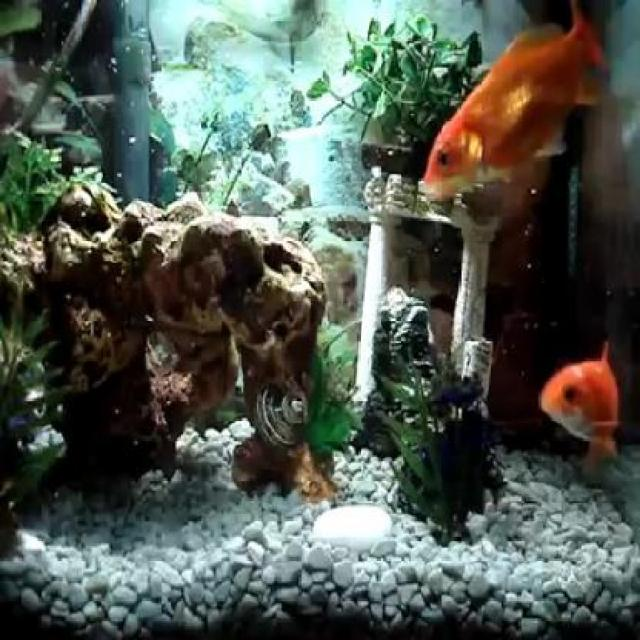GoldFish: (418, 3, 604, 206), (524, 330, 636, 475)
